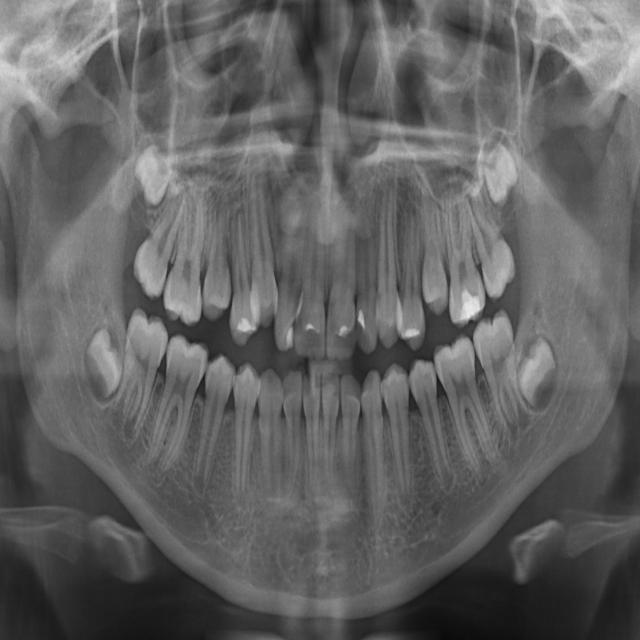CompositeResinRestoration: (459, 286, 482, 324), (283, 319, 296, 348)
